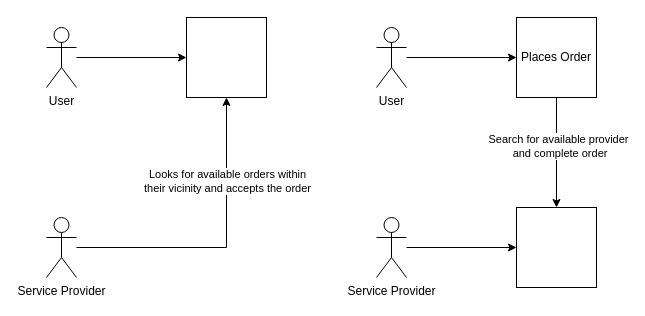
Image size: 645x316. Some labels were removed from this diagram. The centre of each missing label's shape, as x and y in pixels:
"Places Order for a slot" belongs at (x=226, y=57).
"Submits their time and distance availability" belongs at (x=556, y=247).
